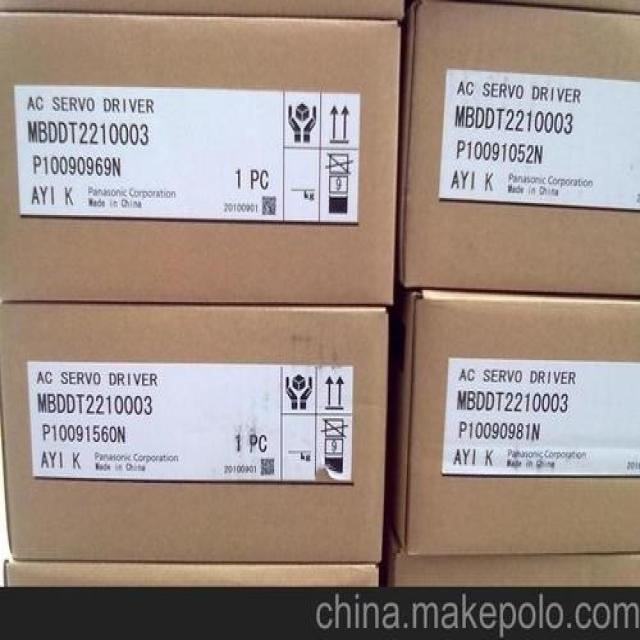box: (0, 10, 403, 305), (0, 302, 388, 561), (397, 0, 640, 300), (396, 288, 640, 561), (388, 536, 640, 589), (3, 558, 376, 587)
